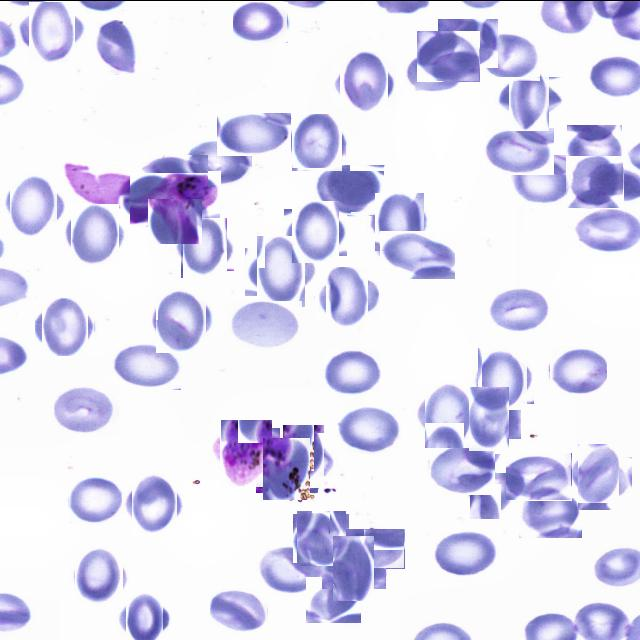difficult: (139, 163, 211, 235), (216, 422, 276, 482)
red blood cell: (226, 300, 303, 349), (380, 230, 456, 279), (313, 164, 385, 215), (251, 241, 311, 301), (428, 440, 494, 494), (108, 341, 180, 389), (152, 290, 210, 348), (484, 127, 554, 174), (217, 110, 291, 154), (54, 385, 119, 435), (417, 30, 480, 81), (23, 1, 80, 57), (337, 406, 402, 455), (186, 139, 252, 187), (506, 452, 572, 500), (336, 54, 392, 110), (465, 458, 521, 514), (434, 529, 498, 578), (475, 350, 531, 406), (519, 488, 582, 537), (258, 546, 325, 592), (6, 175, 61, 231), (421, 386, 476, 442), (259, 440, 314, 496), (566, 155, 624, 208), (288, 204, 343, 259), (68, 206, 122, 262), (486, 285, 550, 332), (511, 154, 571, 204), (480, 30, 540, 80), (372, 194, 427, 248), (572, 449, 626, 504), (127, 476, 182, 530), (326, 540, 381, 594), (438, 18, 498, 67), (72, 550, 126, 604), (290, 115, 344, 169), (502, 70, 556, 124), (142, 154, 208, 198), (177, 220, 230, 274), (294, 512, 348, 564), (38, 300, 91, 352), (321, 272, 374, 324), (277, 429, 330, 481), (567, 124, 622, 174), (550, 346, 607, 394), (462, 392, 514, 444), (322, 348, 380, 394), (210, 587, 268, 633), (69, 476, 123, 524), (304, 576, 360, 622), (406, 52, 465, 92), (346, 528, 405, 568), (96, 19, 138, 74), (233, 1, 288, 42), (122, 596, 168, 640)
